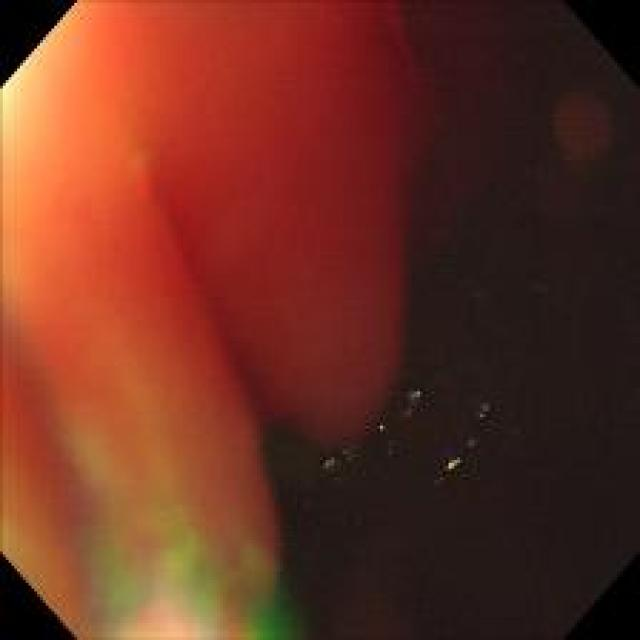color misalignment: (69, 414, 285, 625), (322, 390, 428, 469), (434, 408, 491, 499)
contrast: (251, 10, 630, 629)
